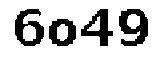4: (79, 4, 115, 53)
6: (10, 3, 46, 46)
9: (116, 5, 152, 52)
o: (47, 16, 78, 48)
